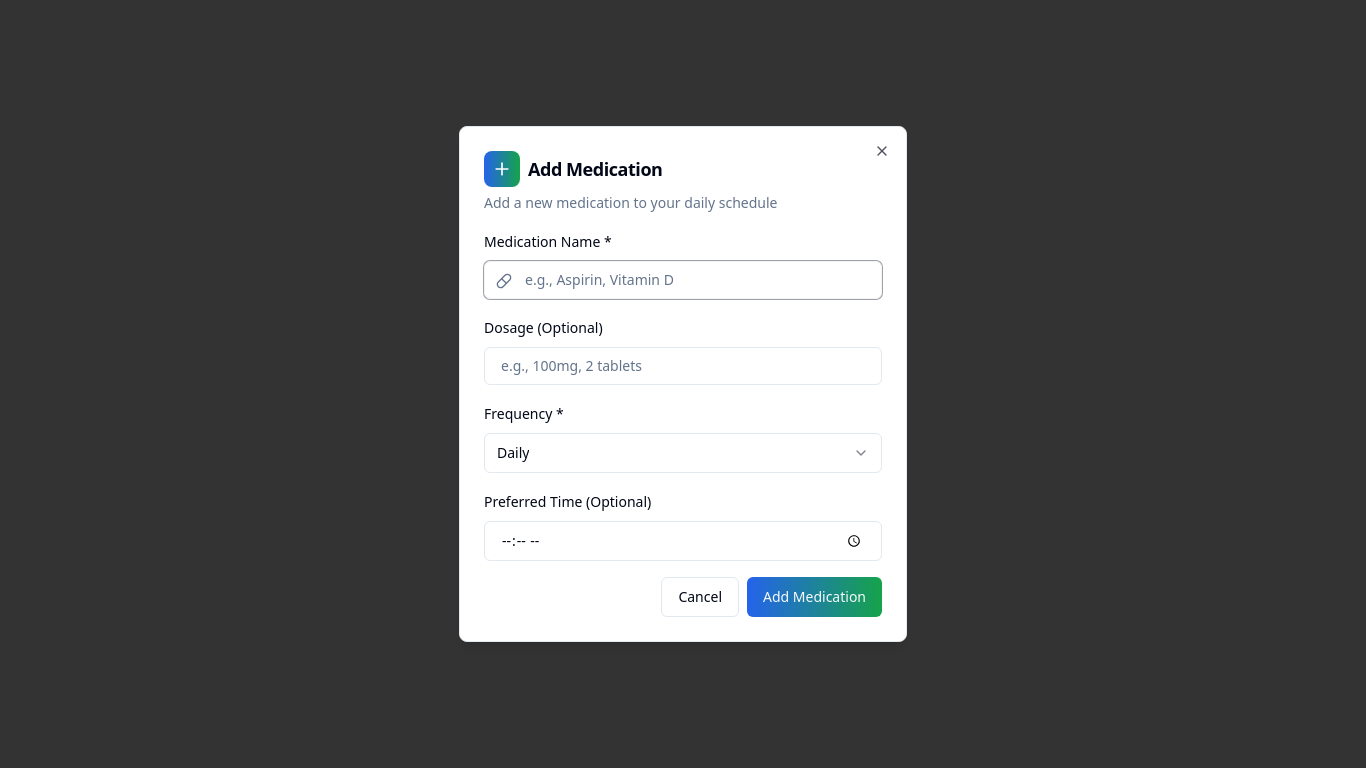
Test: MedicationForm › validates time field requirement
Type "Aspirin" into the field labelled "Medication Name *". click: x=683, y=280
box: [484,261,882,299]
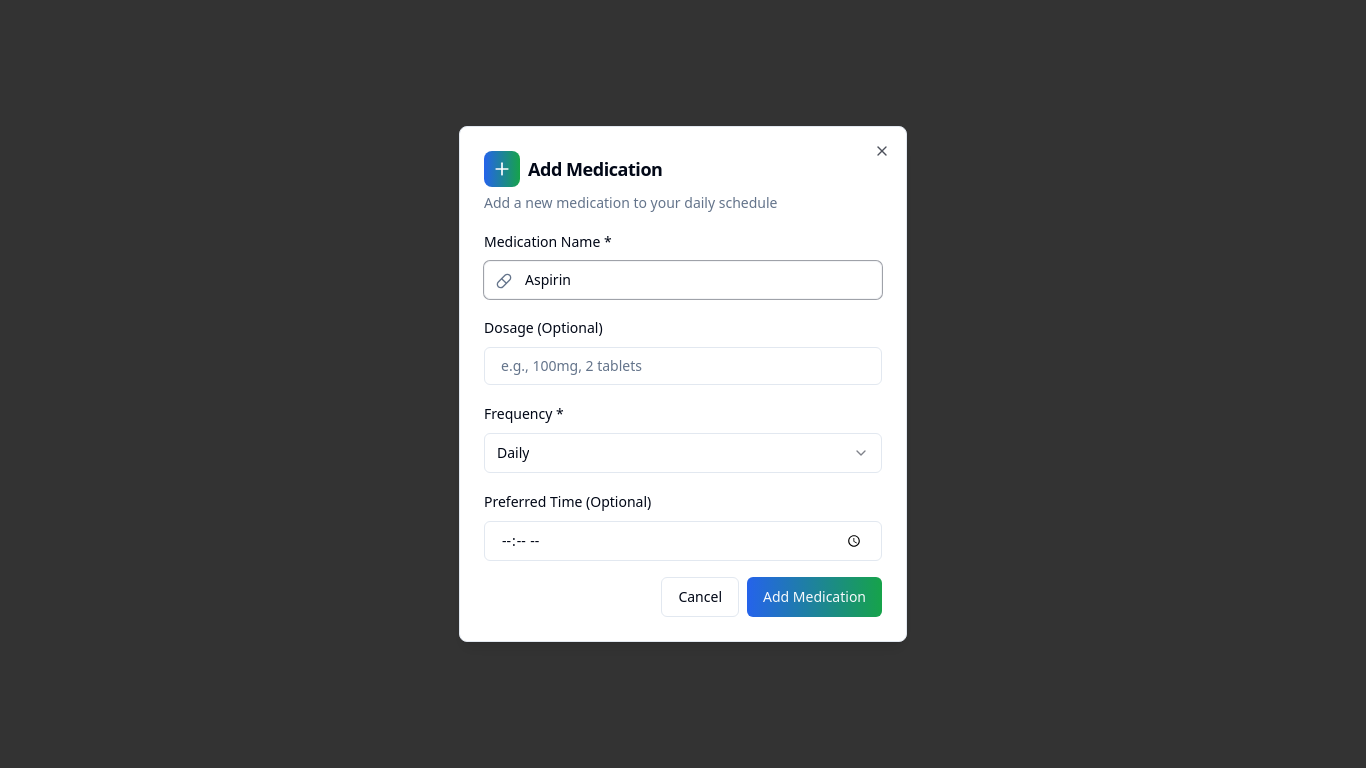
Click the button "Add Medication". click: x=814, y=597
box: [747,577,882,617]
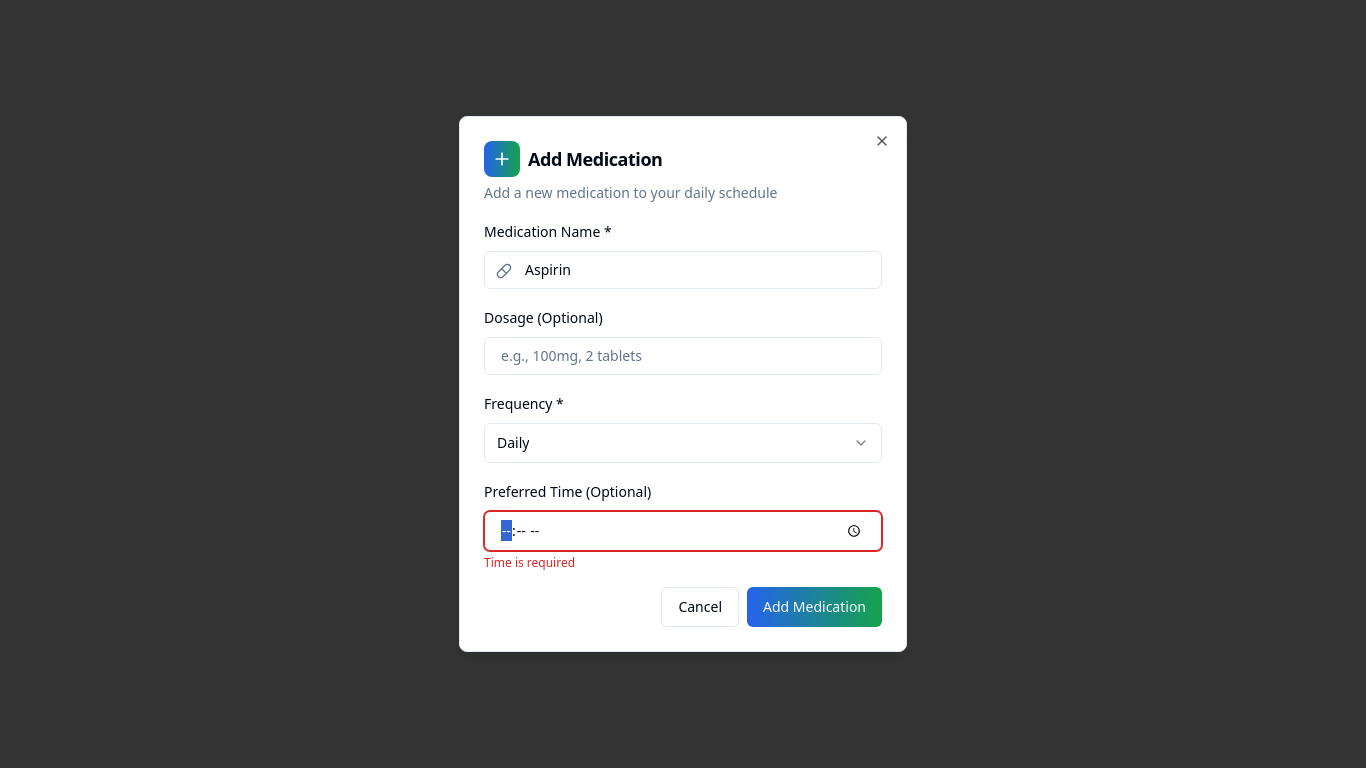
Now the text "Time is required" is shown, box [484,554,575,571]
